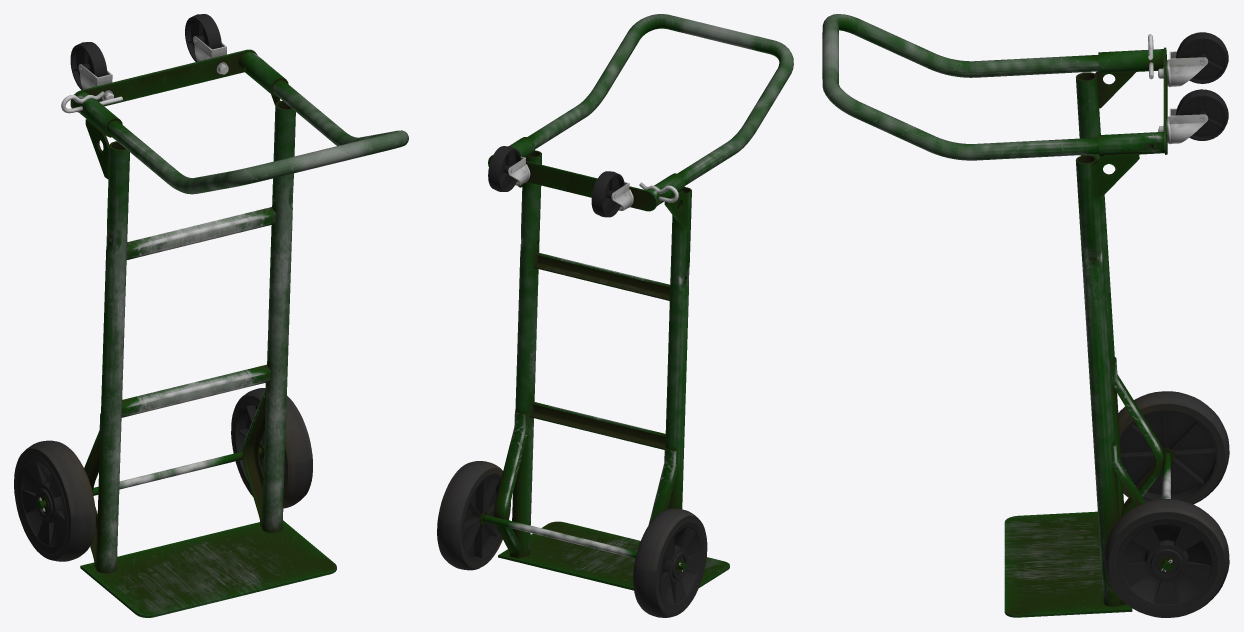
3 views of the same model, side by side, from view 1: azimuth 30°, elevation 25°; view 2: azimuth 150°, elevation 25°; view 3: azimuth 270°, elevation 25° (orthographic). The views are drawn at different scales.
Visible parts, largest first — view 1: SM_HandTruckCart.005; view 2: SM_HandTruckCart.005; view 3: SM_HandTruckCart.005.
Boxes of the visible parts, x1,y1,x2,y2 form: SM_HandTruckCart.005: (14,14,408,617); SM_HandTruckCart.005: (437,14,793,617); SM_HandTruckCart.005: (822,14,1229,617).
Size of the model in its own units: 0.4371 by 0.8539 by 0.6056.
1 material, 1 textured.
